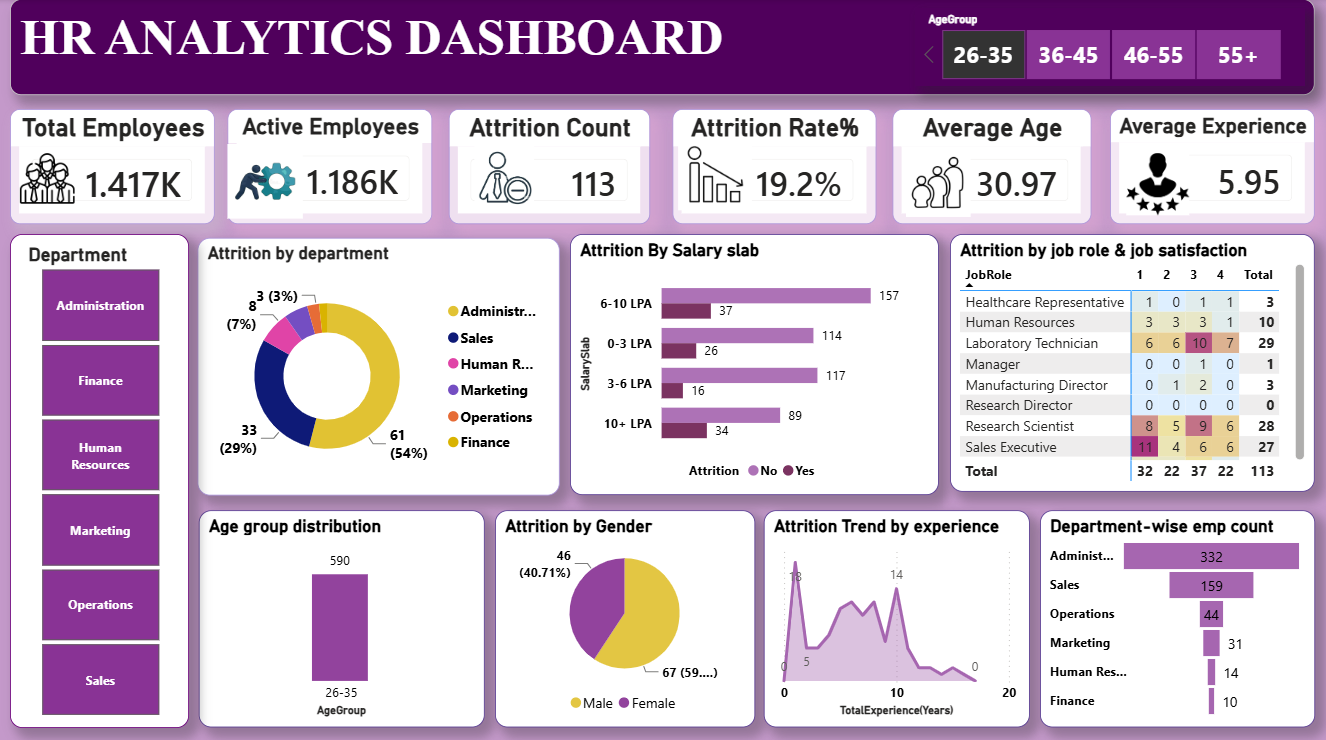

The page's visual inventory and layout, read from the dashboard file:
{"tool":"powerbi","page":{"name":"Page 1","canvas":[1280,720],"ordinal":0},"visuals":[{"type":"textbox","box":[9.7,0,1259.5,92.9],"z":0},{"type":"cardVisual","title":"Total Employees","fields":{"Data":["CountNonNull(HR_Analytics-4 (3).EmpID)"]},"box":[9.7,106.2,197.9,111],"z":1000},{"type":"cardVisual","title":"Active Employees","fields":{"Data":["CountNonNull(HR_Analytics-4 (3).EmployeeCount)"]},"box":[219.6,106.2,197.9,111],"z":2000},{"type":"cardVisual","title":"Attrition Count","fields":{"Data":["Sum(HR_Analytics-4 (1).Attrition count)"]},"box":[433.1,106.2,194.2,111],"z":3000},{"type":"cardVisual","title":"Attrition Rate%","fields":{"Data":["HR_Analytics-4 (1).Attrition Rate %"]},"box":[649.1,106.2,196.6,111],"z":4000},{"type":"cardVisual","title":"Average Age","fields":{"Data":["Avg(HR_Analytics-4 (1).Age)"]},"box":[861.4,106.2,191.8,111],"z":5000},{"type":"cardVisual","title":"Average Experience","fields":{"Data":["Avg(HR_Analytics-4 (1).YearsatCompany)"]},"box":[1071.3,106.2,197.9,111],"z":6000},{"type":"image","box":[1086.7,146.7,61.1,63.3],"z":7000},{"type":"image","box":[207.8,140,96.7,72.2],"z":8000},{"type":"image","box":[0,146.7,91.1,52.2],"z":9000},{"type":"image","box":[432.9,141.4,107.1,62.9],"z":10000},{"type":"image","box":[615.7,135.7,150,68.6],"z":11000},{"type":"image","box":[831.4,144.3,148.6,65.7],"z":12000},{"type":"donutChart","title":"Attrition by department","fields":{"Category":["HR_Analytics-4 (1).Department"],"Y":["Sum(HR_Analytics-4 (1).Attrition count)"]},"box":[190.6,230.4,349.9,248.5],"z":13000},{"type":"clusteredBarChart","title":"Attrition By Salary slab","fields":{"Category":["HR_Analytics-4 (1).SalarySlab"],"Y":["CountNonNull(HR_Analytics-4 (1).EmpID)"],"Series":["HR_Analytics-4 (1).Attrition"]},"box":[550.1,226.8,355.9,252.1],"z":14000},{"type":"pivotTable","title":"Attrition by job role & job satisfaction","fields":{"Rows":["HR_Analytics-4 (1).JobRole"],"Values":["Sum(HR_Analytics-4 (1).Attrition count)"],"Columns":["HR_Analytics-4 (1).JobSatisfaction"]},"box":[916.9,226.8,352.3,248.5],"z":15000},{"type":"columnChart","title":"Age group distribution","fields":{"Category":["HR_Analytics-4 (1).AgeGroup"],"Y":["Sum(HR_Analytics-4 (1).EmployeeCount)"]},"box":[191.8,493.4,276.3,209.9],"z":16000},{"type":"pieChart","title":"Attrition by Gender","fields":{"Category":["HR_Analytics-4 (1).Gender"],"Y":["Sum(HR_Analytics-4 (1).Attrition count)"]},"box":[477.8,493.4,250.9,209.9],"z":17000},{"type":"areaChart","title":"Attrition Trend by experience","fields":{"Category":["HR_Analytics-4 (1).TotalExperience(Years)"],"Y":["Sum(HR_Analytics-4 (1).Attrition count)"]},"box":[737.1,493.4,257,209.9],"z":18000},{"type":"funnel","title":" Department-wise emp count","fields":{"Category":["HR_Analytics-4 (1).Department"],"Y":["CountNonNull(HR_Analytics-4 (1).EmpID)"]},"box":[1003.8,493.4,265.4,209.9],"z":18001},{"type":"slicer","fields":{"Values":["HR_Analytics-4 (1).Department"]},"box":[9.7,226.8,172.5,476.5],"z":18002},{"type":"slicer","fields":{"Values":["HR_Analytics-4 (1).AgeGroup"]},"box":[883.1,8.4,376.4,76],"z":18003}]}

Visuals, with their boxes in screenshot pixels (x1, y1, x2, y2), scaled from the page's 1280x720 canvas onto the 1326x740 screenshot:
textbox: {"x1": 10, "y1": 0, "x2": 1315, "y2": 95}
"Total Employees" cardVisual: {"x1": 10, "y1": 109, "x2": 215, "y2": 223}
"Active Employees" cardVisual: {"x1": 227, "y1": 109, "x2": 433, "y2": 223}
"Attrition Count" cardVisual: {"x1": 449, "y1": 109, "x2": 650, "y2": 223}
"Attrition Rate%" cardVisual: {"x1": 672, "y1": 109, "x2": 876, "y2": 223}
"Average Age" cardVisual: {"x1": 892, "y1": 109, "x2": 1091, "y2": 223}
"Average Experience" cardVisual: {"x1": 1110, "y1": 109, "x2": 1315, "y2": 223}
image: {"x1": 1126, "y1": 151, "x2": 1189, "y2": 216}
image: {"x1": 215, "y1": 144, "x2": 315, "y2": 218}
image: {"x1": 0, "y1": 151, "x2": 94, "y2": 204}
image: {"x1": 448, "y1": 145, "x2": 559, "y2": 210}
image: {"x1": 638, "y1": 139, "x2": 793, "y2": 210}
image: {"x1": 861, "y1": 148, "x2": 1015, "y2": 216}
"Attrition by department" donutChart: {"x1": 197, "y1": 237, "x2": 560, "y2": 492}
"Attrition By Salary slab" clusteredBarChart: {"x1": 570, "y1": 233, "x2": 939, "y2": 492}
"Attrition by job role & job satisfaction" pivotTable: {"x1": 950, "y1": 233, "x2": 1315, "y2": 489}
"Age group distribution" columnChart: {"x1": 199, "y1": 507, "x2": 485, "y2": 723}
"Attrition by Gender" pieChart: {"x1": 495, "y1": 507, "x2": 755, "y2": 723}
"Attrition Trend by experience" areaChart: {"x1": 764, "y1": 507, "x2": 1030, "y2": 723}
" Department-wise emp count" funnel: {"x1": 1040, "y1": 507, "x2": 1315, "y2": 723}
slicer - HR_Analytics-4 (1).Department: {"x1": 10, "y1": 233, "x2": 189, "y2": 723}
slicer - HR_Analytics-4 (1).AgeGroup: {"x1": 915, "y1": 9, "x2": 1305, "y2": 87}
